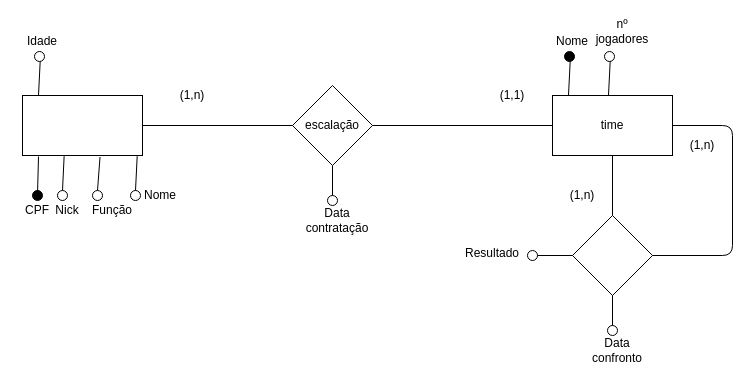
Some shapes in this 751 by 382 pixel diagram are drawn without their labels. Here are the shapes that lost their labels. From the top down, the box of each, then its label:
(22, 94, 142, 156): jogadores
(572, 214, 652, 296): enfrentam
